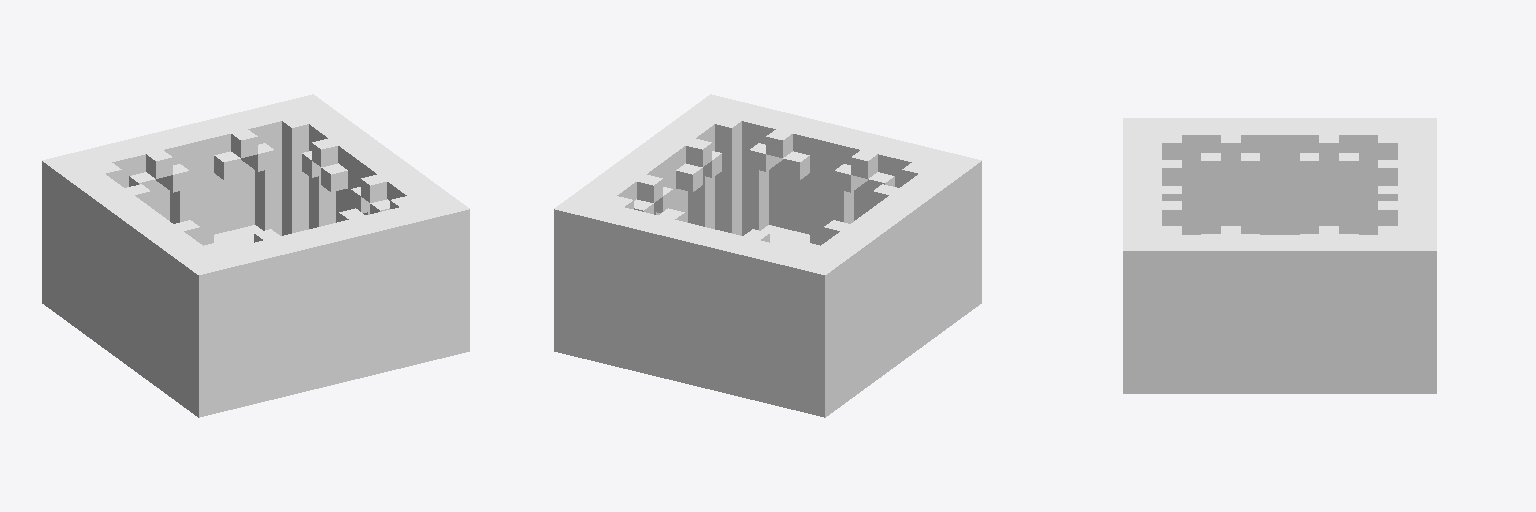
File: towar-17.obj
3 views of the same model, side by side, from view 1: azimuth 30°, elevation 25°; view 2: azimuth 150°, elevation 25°; view 3: azimuth 270°, elevation 25° (orthographic).
Visible parts, largest first — view 1: towar-17; view 2: towar-17; view 3: towar-17.
Part boxes in pixels (left/top/right/bottom): towar-17: left=42, top=94, right=469, bottom=417; towar-17: left=554, top=94, right=981, bottom=417; towar-17: left=1123, top=118, right=1436, bottom=393.
Size of the model in its own units: 16 by 8 by 16.